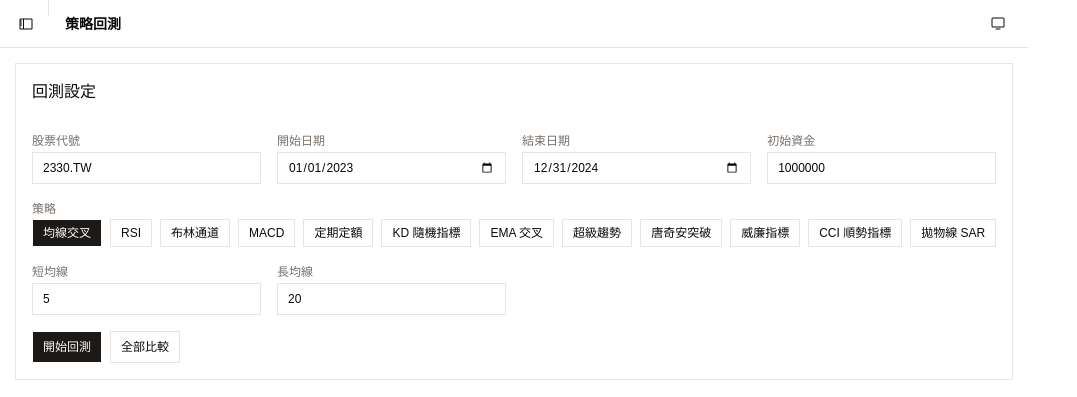
Test: Backtest Page › switches strategy params when clicking a different strategy
// Click RSI
Click the button "RSI" at x=131, y=233, box [110, 219, 152, 247]
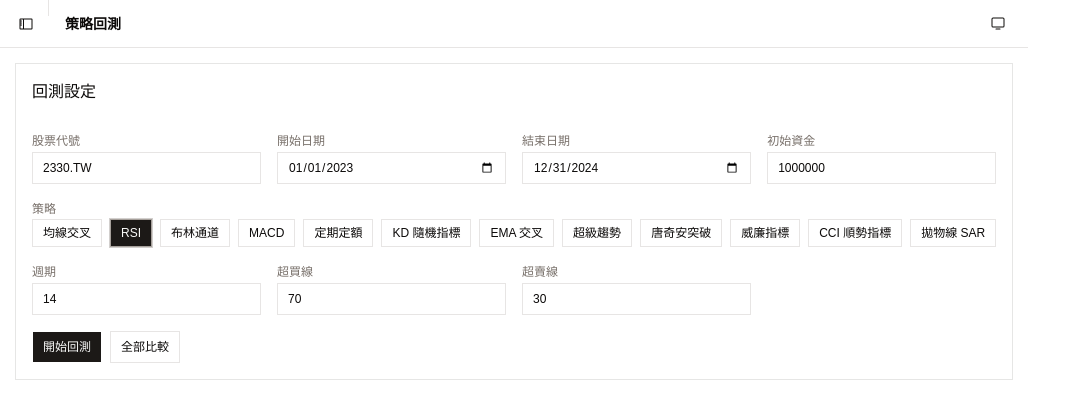
Result: the number field showing "14" below "週期" is shown at [32, 282, 261, 314]
Result: the number field showing "70" below "超買線" is shown at [277, 282, 506, 314]
Result: the number field showing "30" below "超賣線" is shown at [522, 282, 751, 314]
// Click MACD
Click the button "MACD" at x=267, y=233, box [238, 219, 295, 247]
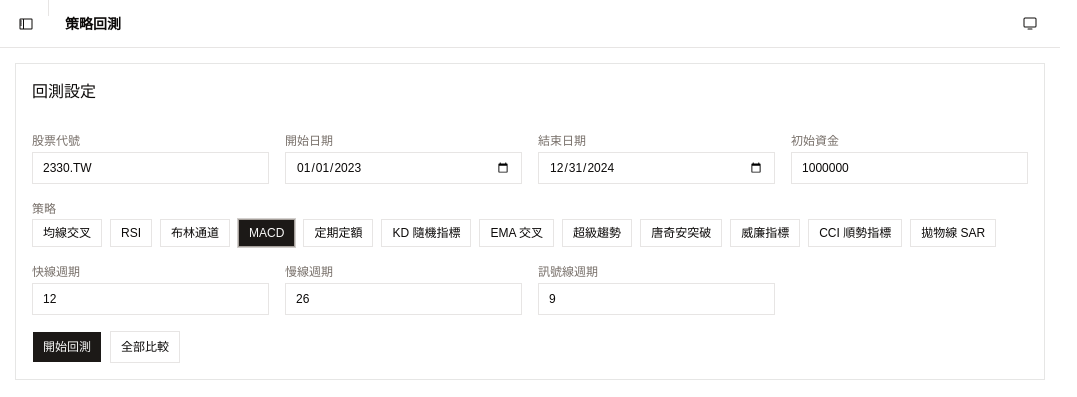
Result: the number field showing "12" below "快線週期" is shown at [32, 282, 269, 314]
Result: the number field showing "26" below "慢線週期" is shown at [285, 282, 522, 314]
Result: the number field showing "9" below "訊號線週期" is shown at [538, 282, 775, 314]
// Click Bollinger Bands
Click the button "布林通道" at x=195, y=233, box [160, 219, 230, 247]
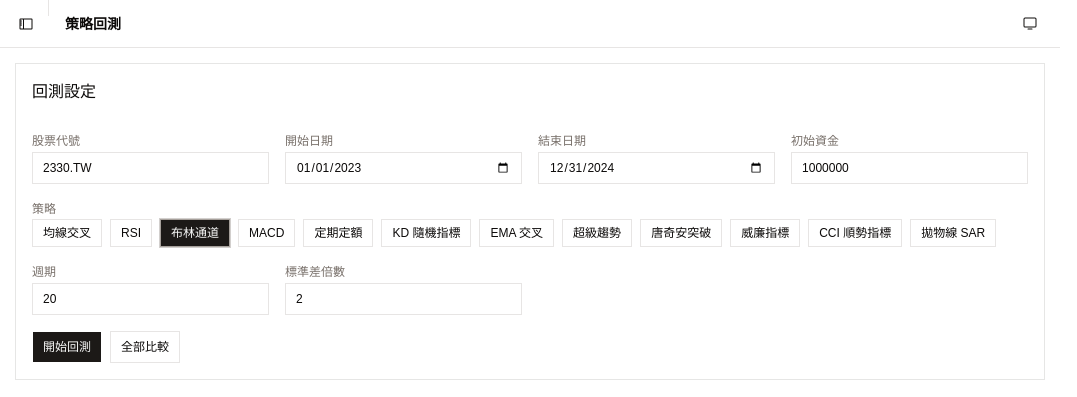
Expected: the number field showing "2" below "標準差倍數" is shown, [285, 282, 522, 314]
// Click DCA
Click the button "定期定額" at x=338, y=233, box [303, 219, 373, 247]
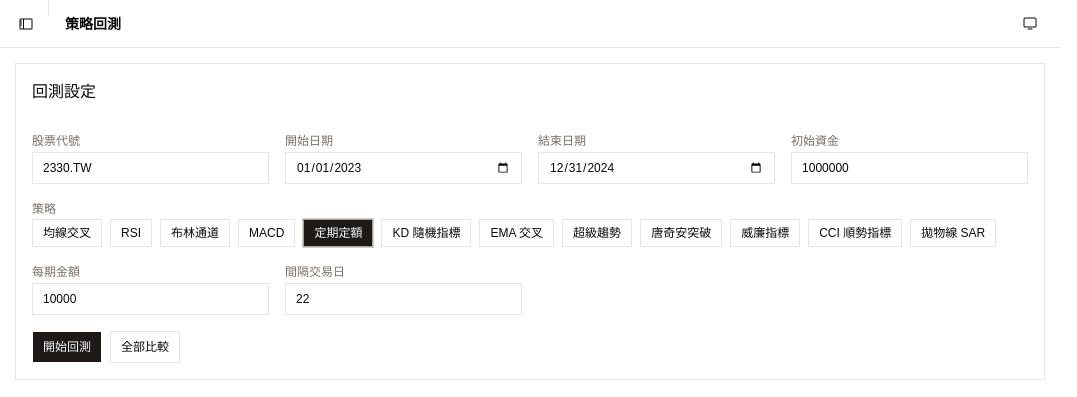
Result: the number field showing "10000" below "每期金額" is shown at [32, 282, 269, 314]
Result: the number field showing "22" below "間隔交易日" is shown at [285, 282, 522, 314]
